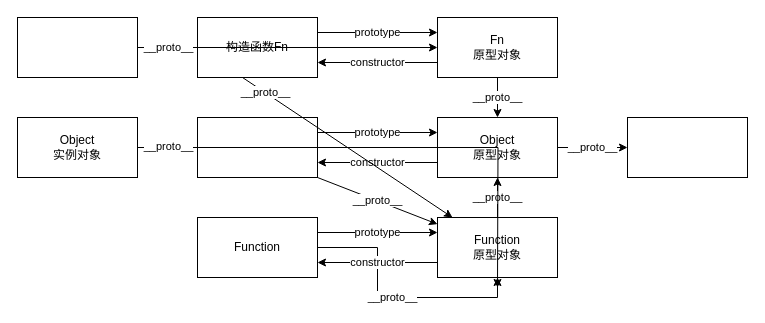
Some shapes in this 765 by 323 pixel diagram are drawn without their labels. The shapes that lost their labels are listed below. From the top down, each one's box as (x1, y1, x2, y2) in pixels, then its label:
(16, 16, 138, 78): Fn实例对象
(196, 116, 318, 178): Object
(626, 116, 748, 178): null
